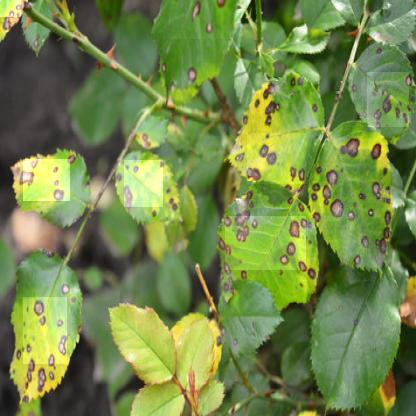black-spot: (225, 216, 306, 270), (247, 133, 306, 184), (23, 297, 67, 364), (310, 163, 360, 221), (170, 0, 232, 39), (367, 72, 409, 127), (23, 159, 70, 201), (124, 160, 163, 207), (0, 0, 21, 17)
